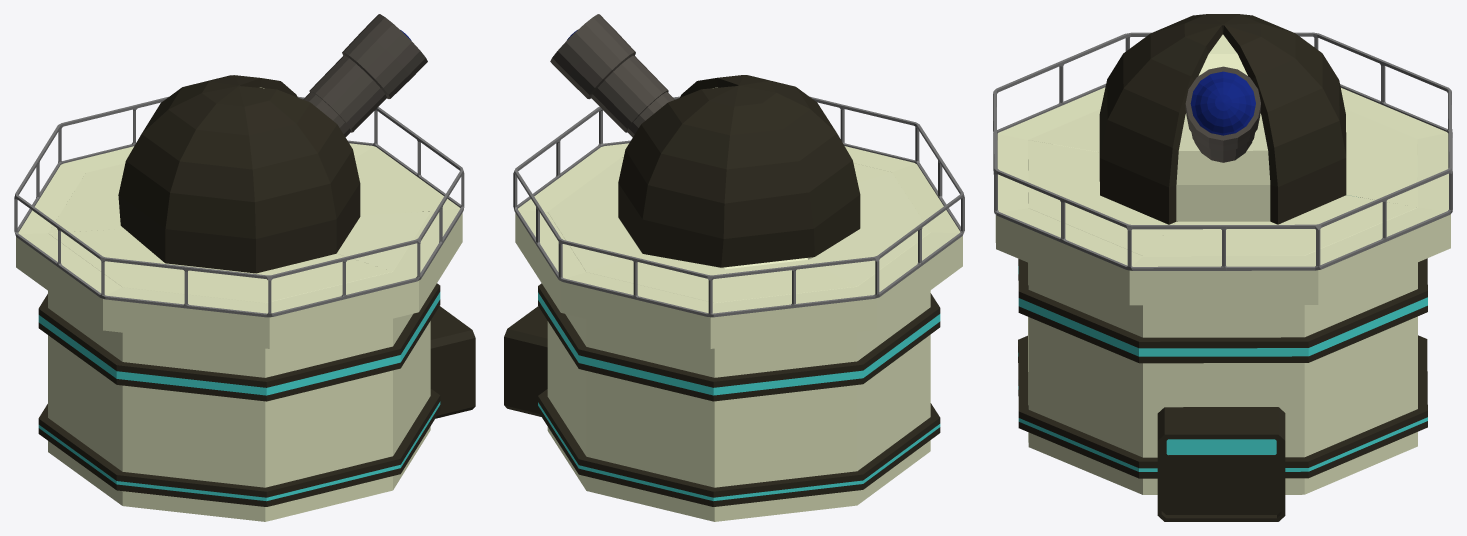
The model's file is Mesh_Build_Observatory.fbx.
The picture shows the model from 3 angles, left to right: view 1: azimuth 30°, elevation 25°; view 2: azimuth 150°, elevation 25°; view 3: azimuth 270°, elevation 25°; orthographic projection. The views are drawn at different scales.
Parts seen in each view (by area): view 1: Base.001, Dome, Telescope; view 2: Base.001, Dome, Telescope; view 3: Base.001, Dome, Telescope.
Part boxes in pixels (left/top/right/bottom): Base.001: left=14, top=96, right=475, bottom=521; Dome: left=118, top=75, right=360, bottom=273; Telescope: left=303, top=14, right=427, bottom=137; Base.001: left=504, top=96, right=964, bottom=521; Dome: left=618, top=75, right=860, bottom=267; Telescope: left=550, top=14, right=674, bottom=137; Base.001: left=993, top=32, right=1452, bottom=521; Dome: left=1099, top=14, right=1346, bottom=224; Telescope: left=1185, top=66, right=1260, bottom=162.
Bounding box in the file's own units: 930 × 887 × 872.
